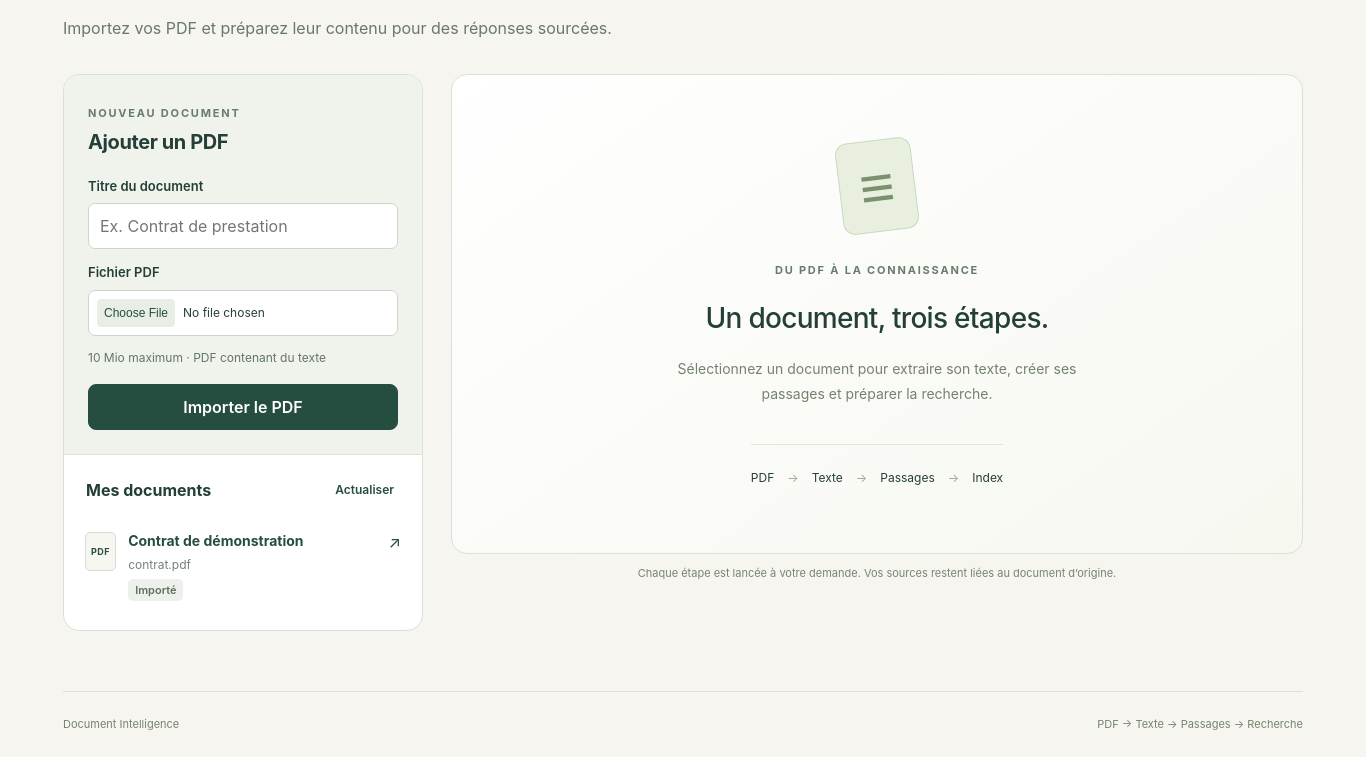
Test case: Documents › selects a document and updates its status after extraction
(page scrolled)
Click the button "PDF Contrat de démonstration contrat.pdf Importé ↗" at (101, 552), box [74, 515, 412, 616]
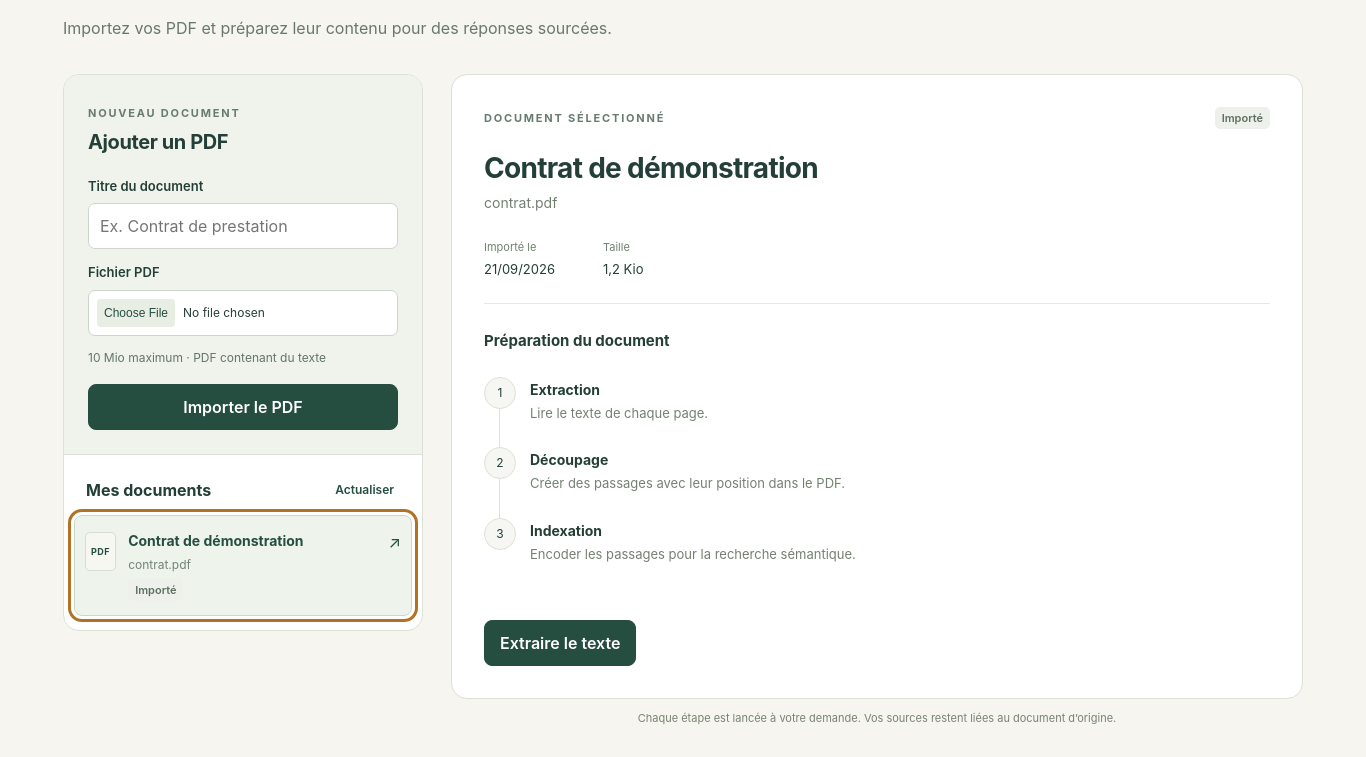
Click the button "Extraire le texte" at (560, 643), box [484, 620, 636, 666]
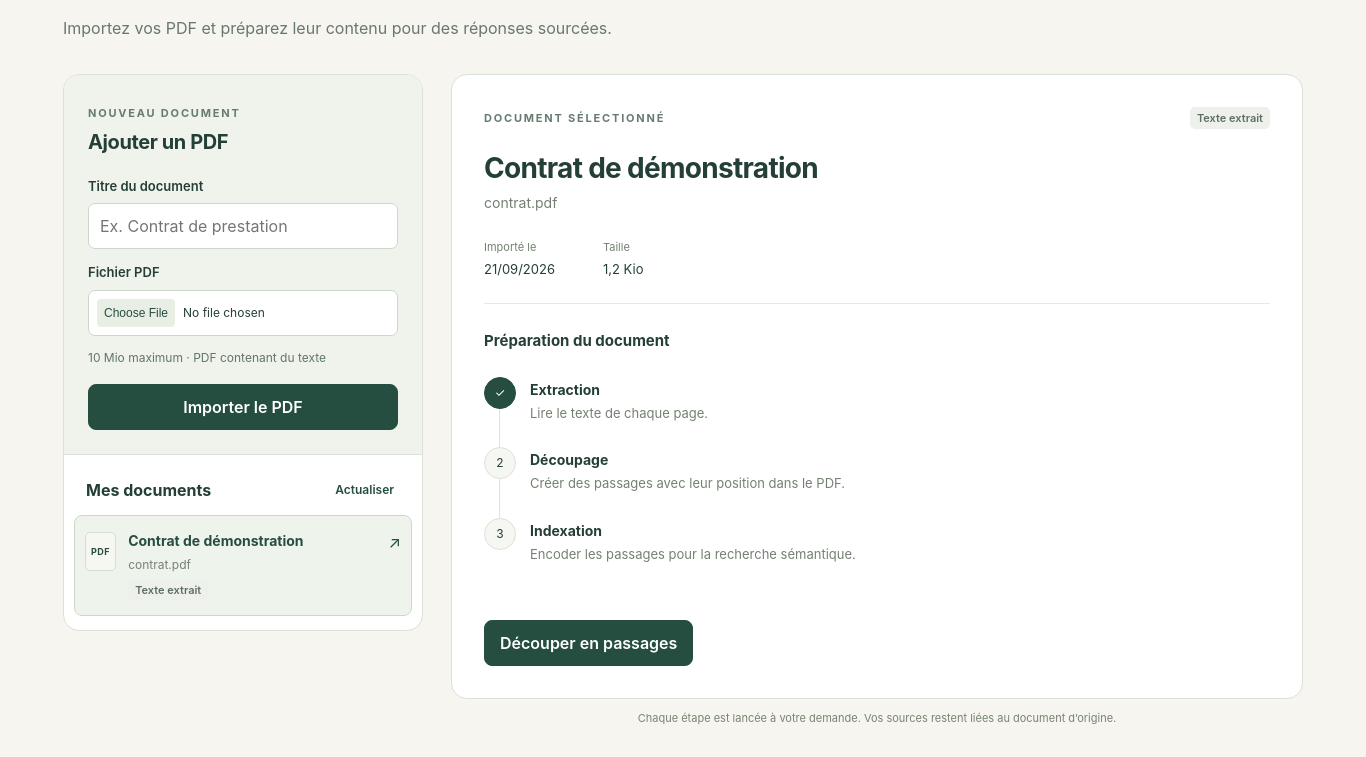
Check: the button "Découper en passages" is shown, box [484, 620, 693, 666]
